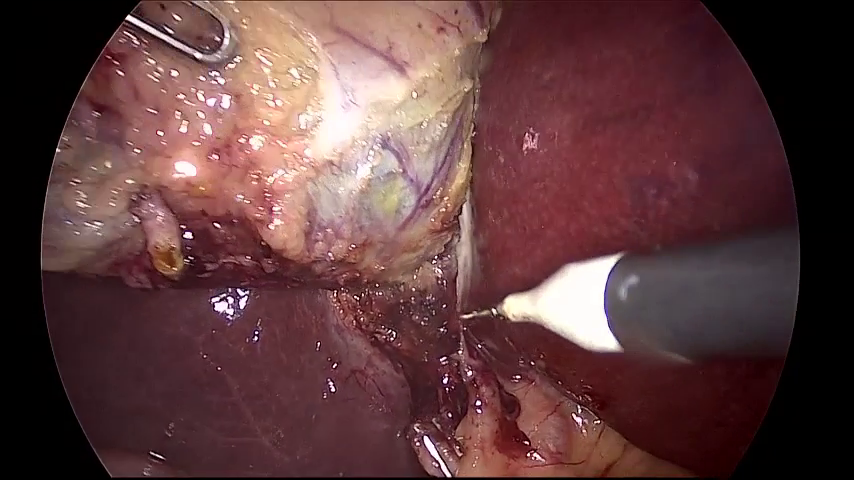grasper: (125, 1, 240, 63)
lhook: (457, 225, 800, 357)
